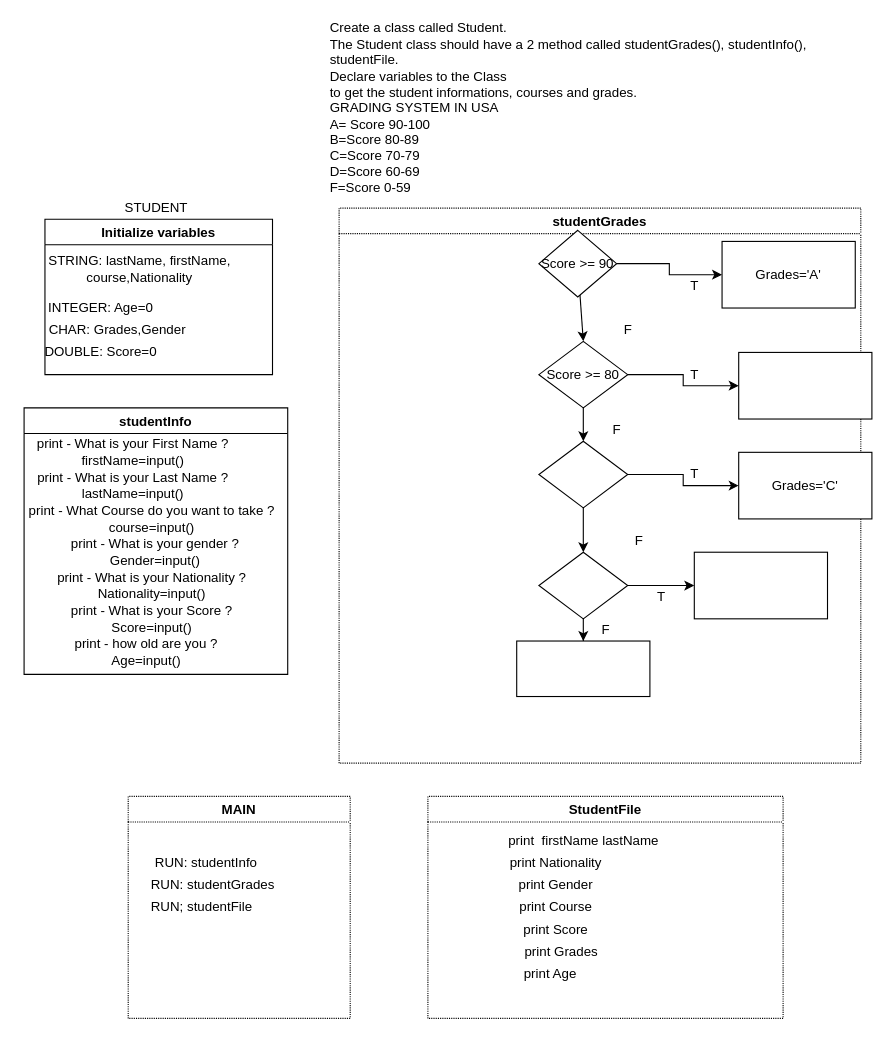
Some shapes in this 892 by 1038 pixel diagram are drawn without their labels. The centre of each missing label's shape, as x and y in pixels:
"Grade='F'" goes at point (583, 668).
"Grades='B'" goes at point (805, 385).
"Grades='D'" goes at point (760, 585).
"Score >= 60" goes at point (583, 585).
"Score >= 70" goes at point (583, 474).
